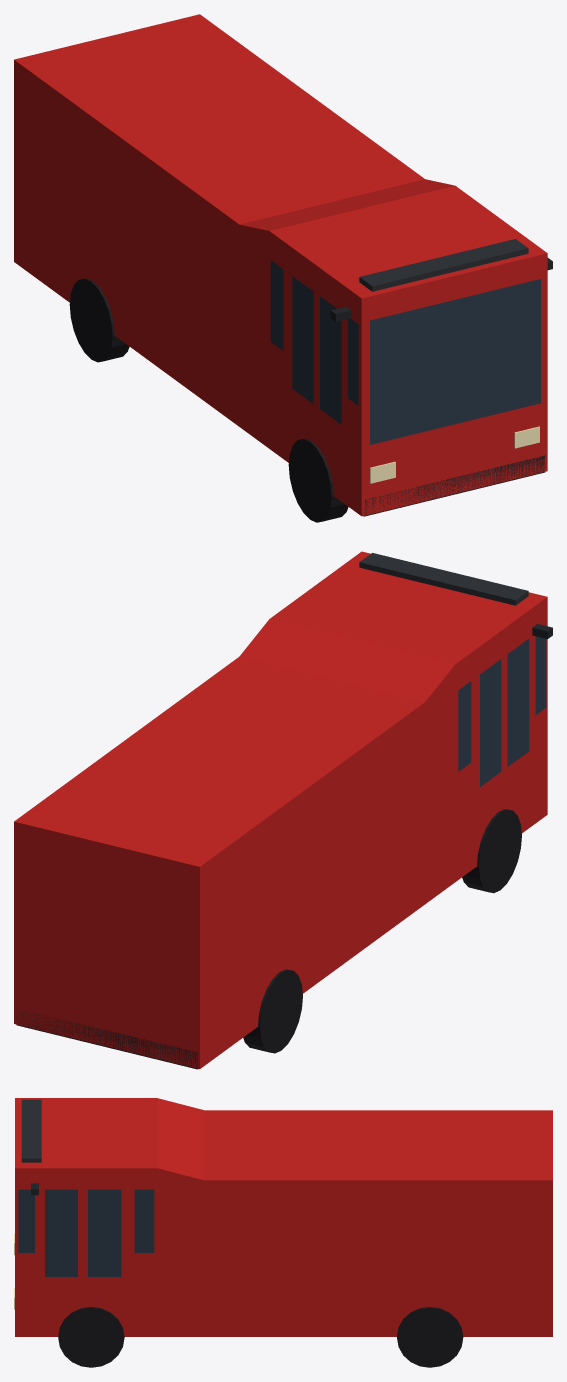
The model's file is fire_engine.glb.
3 renders of one model, top to bottom at view 1: azimuth 30°, elevation 25°; view 2: azimuth 150°, elevation 25°; view 3: azimuth 270°, elevation 25°, orthographic. The views are drawn at different scales.
Visible parts, largest first — view 1: body, glass_screen, wheel_1_L_tyre, wheel_0_L_tyre, beacon_bar, glass_side.003, glass_side.005, bumper_nose, glass_side.001, glass_side.007; view 2: body, wheel_0_L_tyre, wheel_1_L_tyre, beacon_bar, glass_side.005, glass_side.003, bumper_tail, glass_side.001, glass_side.007; view 3: body, wheel_1_R_tyre, wheel_0_R_tyre, glass_side.002, glass_side.004, beacon_bar, glass_side, glass_side.006.
Boxes of the visible parts, x1,y1,x2,y2 form: body: [14, 14, 547, 516]; glass_screen: [370, 279, 540, 444]; wheel_1_L_tyre: [288, 438, 348, 522]; wheel_0_L_tyre: [69, 278, 129, 362]; beacon_bar: [359, 239, 528, 291]; glass_side.003: [292, 276, 313, 403]; glass_side.005: [320, 296, 341, 424]; bumper_nose: [363, 455, 545, 516]; glass_side.001: [270, 260, 283, 350]; glass_side.007: [348, 318, 358, 405]; body: [14, 551, 547, 1069]; wheel_0_L_tyre: [243, 969, 302, 1053]; wheel_1_L_tyre: [462, 809, 521, 893]; beacon_bar: [359, 553, 528, 605]; glass_side.005: [507, 638, 529, 766]; glass_side.003: [480, 659, 501, 786]; bumper_tail: [16, 1010, 197, 1069]; glass_side.001: [458, 681, 471, 771]; glass_side.007: [535, 636, 546, 714]; body: [15, 1098, 552, 1336]; wheel_1_R_tyre: [58, 1306, 124, 1367]; wheel_0_R_tyre: [397, 1307, 463, 1367]; glass_side.002: [88, 1189, 121, 1276]; glass_side.004: [45, 1189, 77, 1276]; beacon_bar: [21, 1099, 41, 1162]; glass_side: [134, 1189, 154, 1252]; glass_side.006: [18, 1189, 34, 1252].
Bounding box in the file's own units: 2.92 × 3.37 × 8.12.
